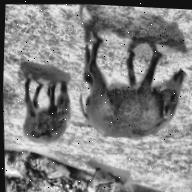boar: (66, 25, 192, 164)
